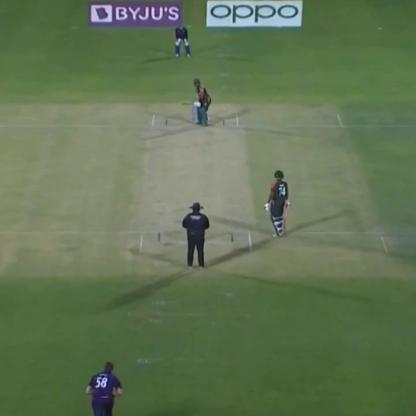pitch: (135, 108, 253, 264)
